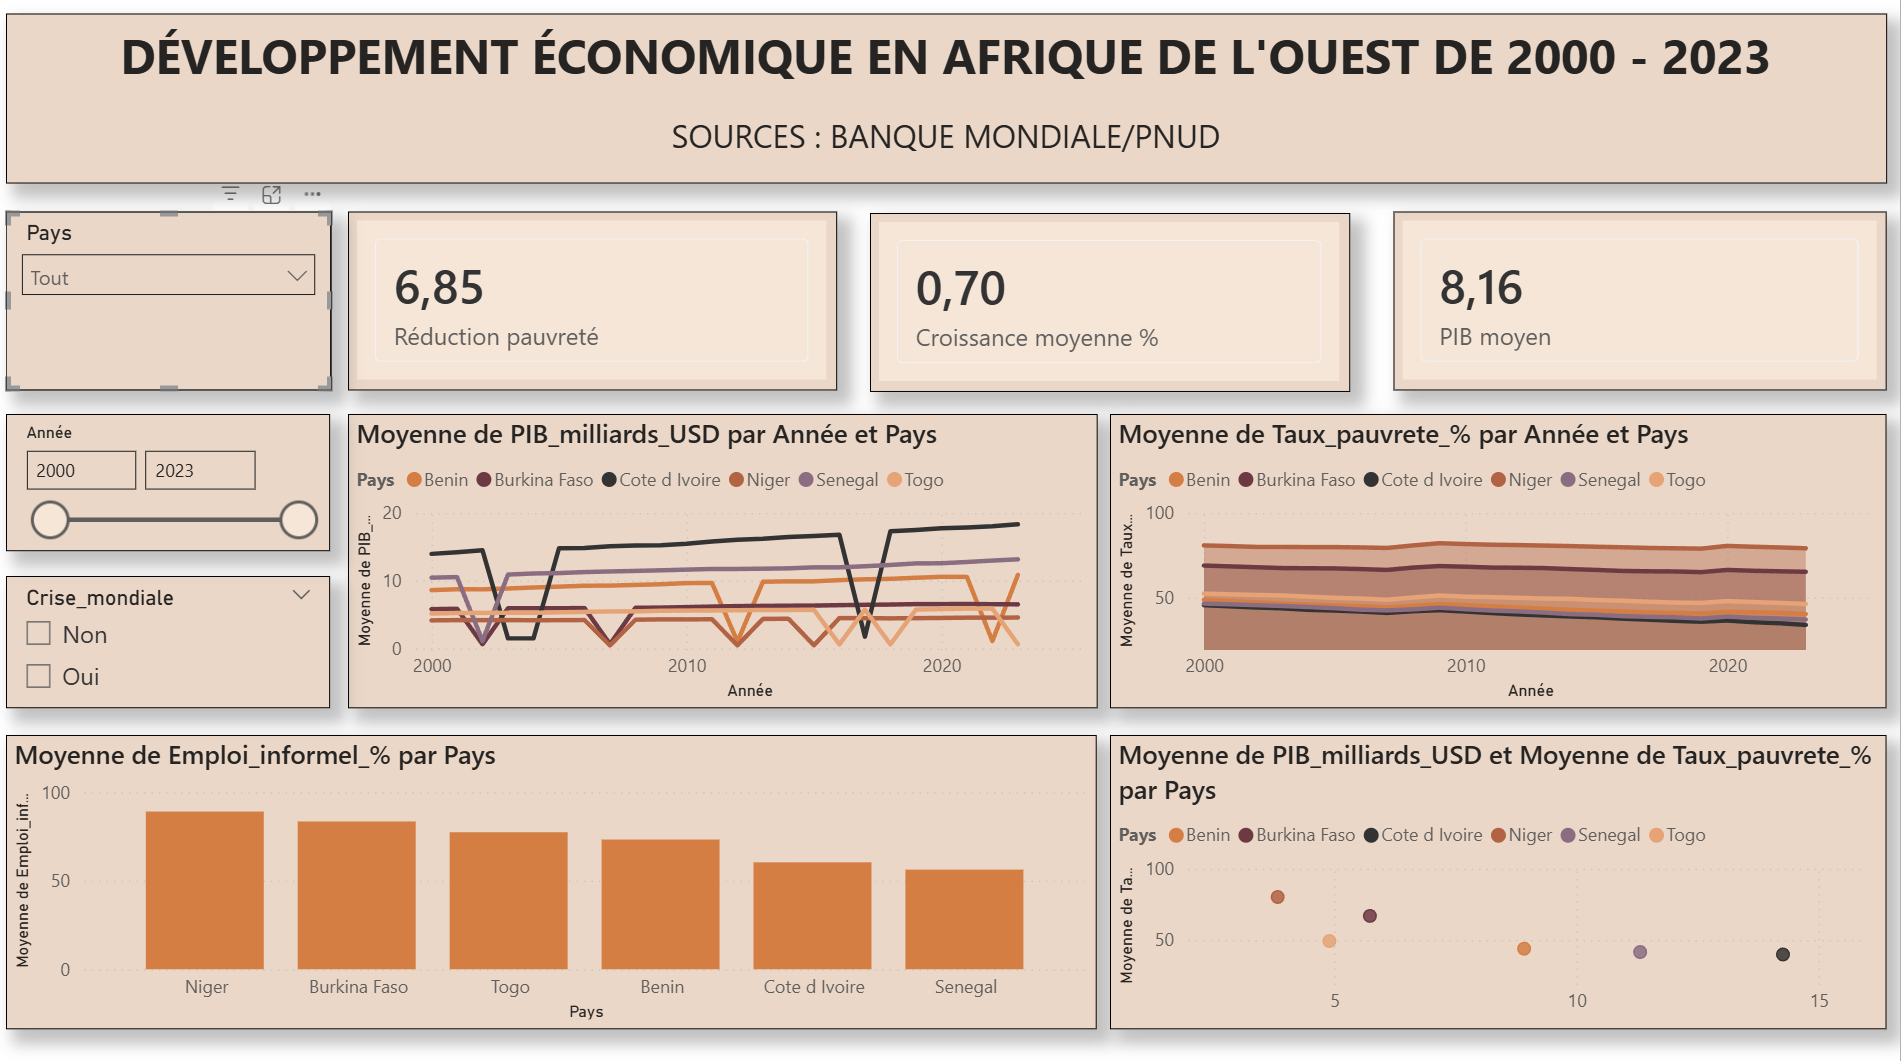

The dashboard page shown, as its layout file describes it:
{"tool":"powerbi","page":{"name":" Page 1","canvas":[1280,720],"ordinal":0},"visuals":[{"type":"cardVisual","fields":{"Data":["Mesures v2.PIB moyen 2"]},"box":[940.4,149.9,330.9,119.7],"z":0},{"type":"cardVisual","fields":{"Data":["Mesures v2.Croissance moyenne 2 %"]},"box":[589.4,150.9,321.8,119.7],"z":1000},{"type":"cardVisual","fields":{"Data":["Mesures v2.Réduction pauvreté 2"]},"box":[239.4,149.9,327.9,119.7],"z":2000},{"type":"lineChart","fields":{"Category":["eco_afrique_ouest_v2.Année"],"Series":["eco_afrique_ouest_v2.Pays"],"Y":["Avg(eco_afrique_ouest_v2.PIB_milliards_USD)"]},"box":[239.2,285.9,502.4,197.1],"z":3000},{"type":"areaChart","fields":{"Category":["eco_afrique_ouest_v2.Année"],"Series":["eco_afrique_ouest_v2.Pays"],"Y":["Avg(eco_afrique_ouest_v2.Taux_pauvrete_%)"]},"box":[750.7,285.9,520.6,197.1],"z":4000},{"type":"clusteredColumnChart","fields":{"Category":["eco_afrique_ouest_v2.Pays"],"Y":["Avg(eco_afrique_ouest_v2.Emploi_informel_%)"]},"box":[10.3,501.2,731.3,197.1],"z":5000},{"type":"scatterChart","fields":{"X":["Avg(eco_afrique_ouest_v2.PIB_milliards_USD)"],"Series":["eco_afrique_ouest_v2.Pays"],"Y":["eco_afrique_ouest_v2.Taux_pauvrete_%"]},"box":[750.7,501.2,520.6,197.1],"z":6000},{"type":"slicer","fields":{"Values":["eco_afrique_ouest_v2.Pays"]},"box":[10.1,149.9,218.3,119.7],"z":7000},{"type":"slicer","fields":{"Values":["eco_afrique_ouest_v2.Crise_mondiale"]},"box":[10.3,394.1,217.6,88.9],"z":8000},{"type":"slicer","fields":{"Values":["eco_afrique_ouest_v2.Année"]},"box":[10.3,285.9,217.6,92.3],"z":9000},{"type":"textbox","box":[10.3,17.1,1261,113.9],"z":10000}]}

Visuals, with their boxes in screenshot pixels (x1, y1, x2, y2), scaled from the page's 1280x720 canvas onto the 1903x1061 screenshot:
cardVisual - Mesures v2.PIB moyen 2: x1=1398 y1=221 x2=1890 y2=397
cardVisual - Mesures v2.Croissance moyenne 2 %: x1=876 y1=222 x2=1355 y2=399
cardVisual - Mesures v2.Réduction pauvreté 2: x1=356 y1=221 x2=843 y2=397
lineChart - eco_afrique_ouest_v2.Année x eco_afrique_ouest_v2.Pays: x1=356 y1=421 x2=1103 y2=712
areaChart - eco_afrique_ouest_v2.Année x eco_afrique_ouest_v2.Pays: x1=1116 y1=421 x2=1890 y2=712
clusteredColumnChart - eco_afrique_ouest_v2.Pays x Avg(eco_afrique_ouest_v2.Emploi_informel_%): x1=15 y1=739 x2=1103 y2=1029
scatterChart - Avg(eco_afrique_ouest_v2.PIB_milliards_USD) x eco_afrique_ouest_v2.Pays: x1=1116 y1=739 x2=1890 y2=1029
slicer - eco_afrique_ouest_v2.Pays: x1=15 y1=221 x2=340 y2=397
slicer - eco_afrique_ouest_v2.Crise_mondiale: x1=15 y1=581 x2=339 y2=712
slicer - eco_afrique_ouest_v2.Année: x1=15 y1=421 x2=339 y2=557
textbox: x1=15 y1=25 x2=1890 y2=193
